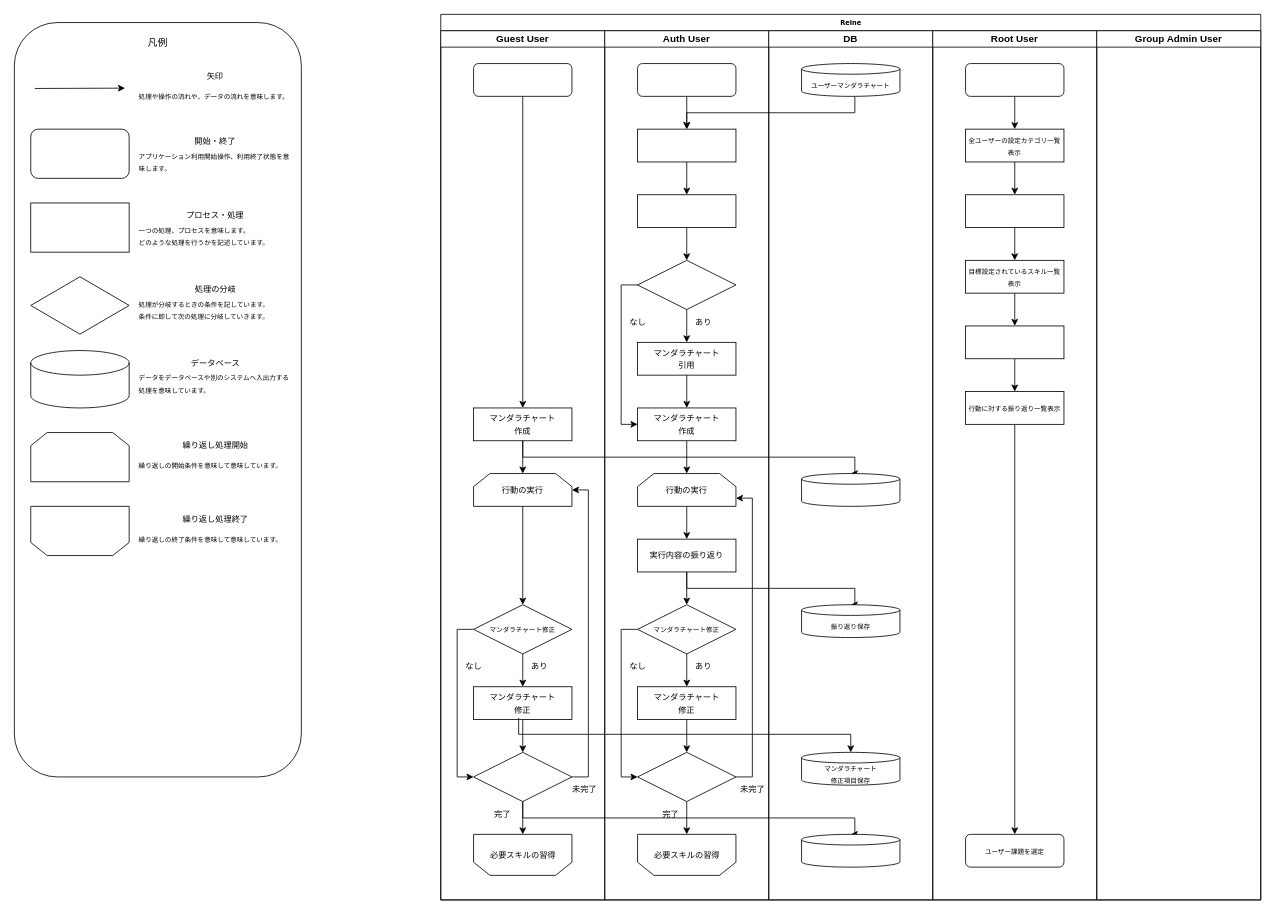
The diagram is 1275 pixels wide and 914 high, and some of its shapes have lost their labels. Each missing label, with the centre of its shape:
"Root Userログイン" belongs at point 1014,79.
"スキルに対する行動一覧表示" belongs at point 1014,342.
"スキル完了" belongs at point 686,777.
"スキル完了項目" belongs at point 522,777.
"スキル完了項目保存" belongs at point 850,850.
"マンダラチャート保存" belongs at point 850,489.
"ユーザー登録 / ログイン マンダラチャートの共有 ユーザー" belongs at point 686,79.
"ユーザー登録 / ログイン マンダラチャートの非共有 ユーザー" belongs at point 522,79.
"共有許可マンダラチャート一覧表示" belongs at point 686,145.
"引用マンダラチャート 有無" belongs at point 686,285.
"指定カテゴリの設定目標一覧表示" belongs at point 1014,211.
"類似マンダラチャート 検索" belongs at point 686,211.
